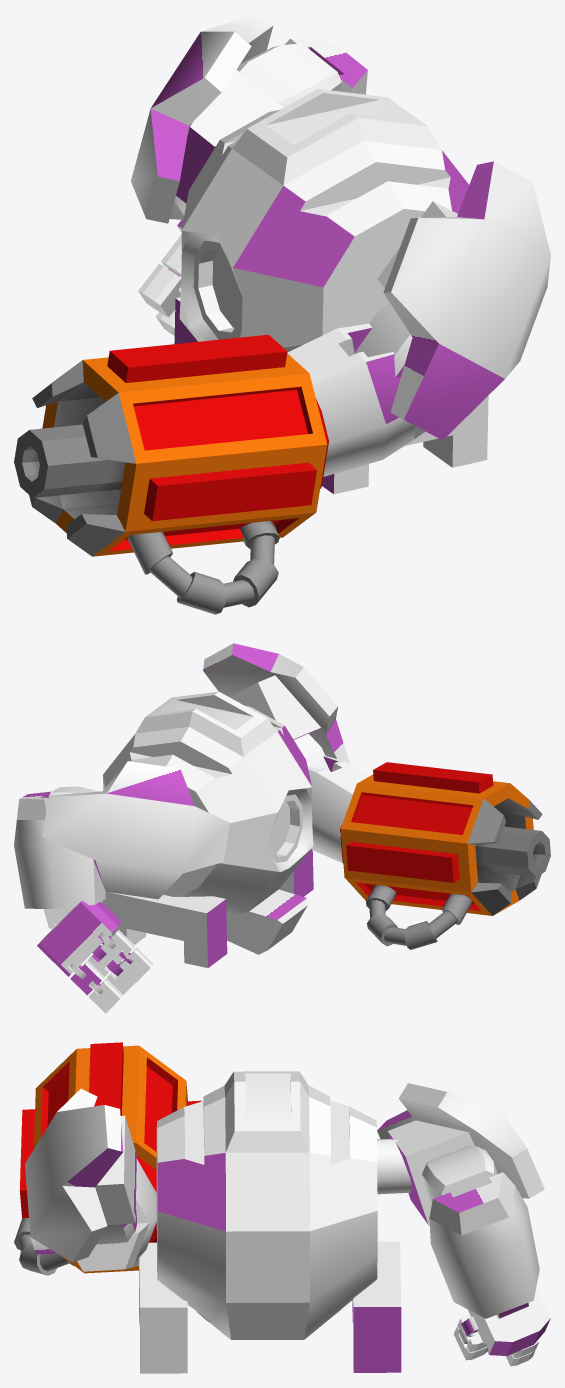
File: Player_FireAttack7.obj
3 views of the same model, one above another, from view 1: azimuth 30°, elevation 25°; view 2: azimuth 150°, elevation 25°; view 3: azimuth 270°, elevation 25° (orthographic). The views are drawn at different scales.
Visible parts, largest first — view 1: Cylinder003, Plane001, Object006, Object002, Object007, Object004, Object003; view 2: Plane001, Cylinder003, Object002, Object006, Object004, Object003, Object007; view 3: Plane001, Object006, Cylinder003, Object002, Object003, Object004, Object007, Object001.
Part boxes in pixels (x1,y1,x2,y2): Cylinder003: (14,334,328,614); Plane001: (174,89,488,494); Object006: (354,161,550,440); Object002: (131,14,341,223); Object007: (287,323,425,476); Object004: (138,220,183,335); Object003: (284,38,367,94); Plane001: (102,691,313,967); Cylinder003: (340,762,550,949); Object002: (42,761,229,899); Object006: (203,643,350,770); Object004: (37,901,153,1013); Object003: (14,791,105,908); Object007: (307,756,367,863); Plane001: (139,1071,401,1373); Object006: (25,1088,136,1262); Cylinder003: (14,1042,201,1275); Object002: (377,1083,544,1225); Object003: (429,1172,539,1318); Object004: (453,1287,550,1366); Object007: (77,1159,156,1271); Object001: (377,1138,411,1194).
Size of the model in its own units: 189 by 114 by 194.
